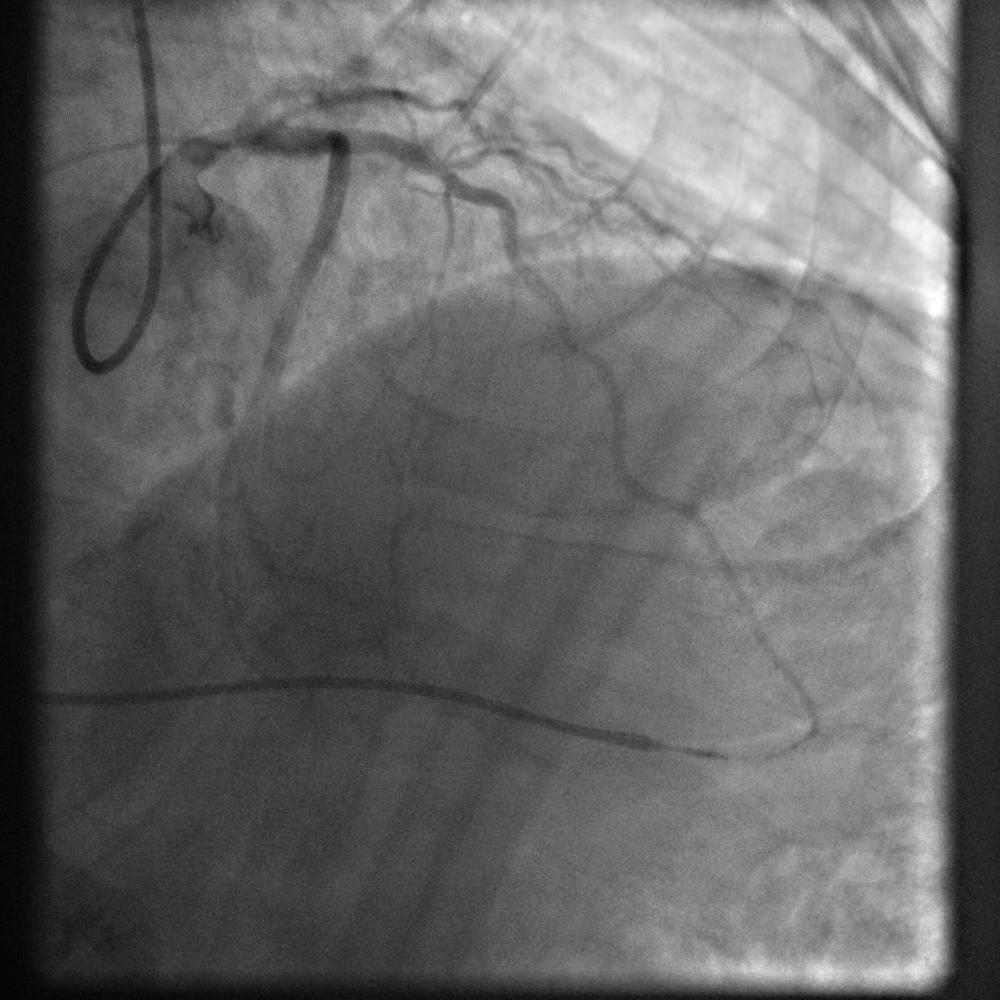Stenosis: (421, 142, 490, 192)
